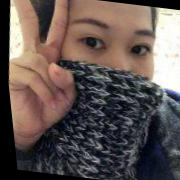WRONG: (38, 5, 166, 135)
